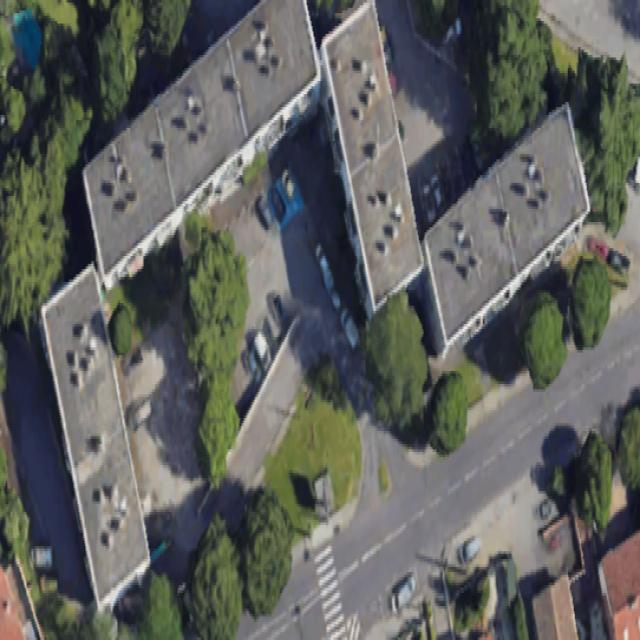immeuble: (31, 0, 363, 296), (384, 104, 628, 341), (33, 264, 157, 608), (308, 3, 435, 323)
